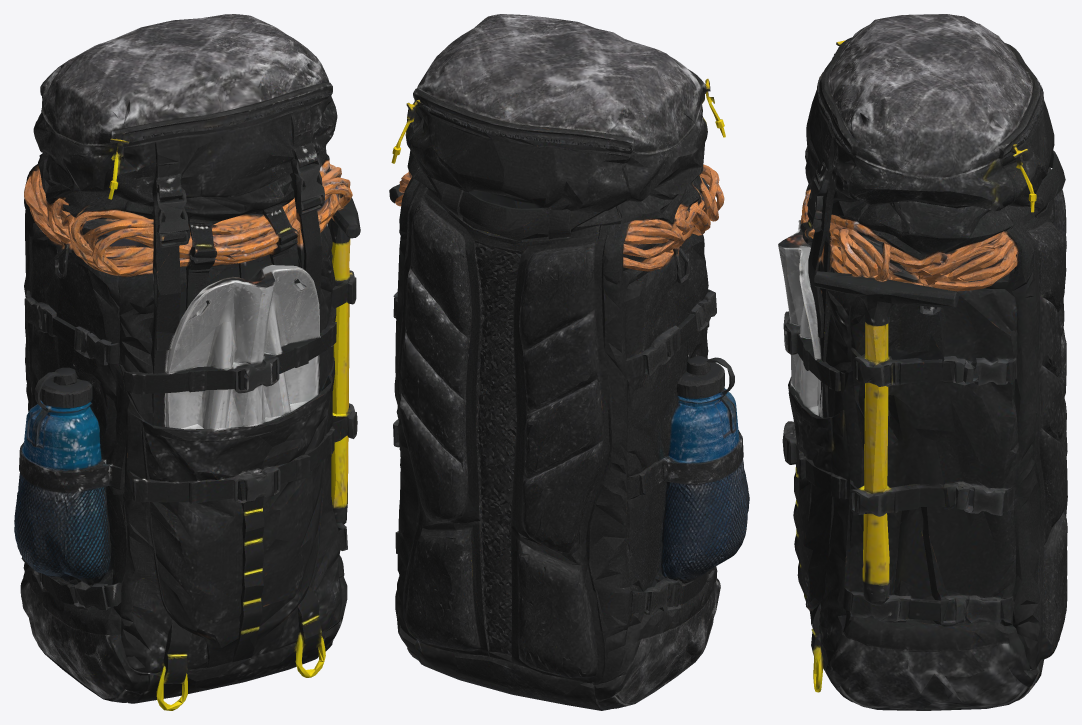
The model's file is pack.glb.
3 renders of one model, left to right at view 1: azimuth 30°, elevation 25°; view 2: azimuth 150°, elevation 25°; view 3: azimuth 270°, elevation 25°, orthographic.
Parts seen in each view (by area): view 1: output_unwrapped; view 2: output_unwrapped; view 3: output_unwrapped.
Boxes of the visible parts, box(x1,y1,x2,y2) form: output_unwrapped: box(14, 14, 360, 710); output_unwrapped: box(389, 14, 749, 710); output_unwrapped: box(778, 14, 1067, 710).
Bounding box in the file's own units: 1.05 × 1.9 × 0.808.
1 material, 1 textured.
